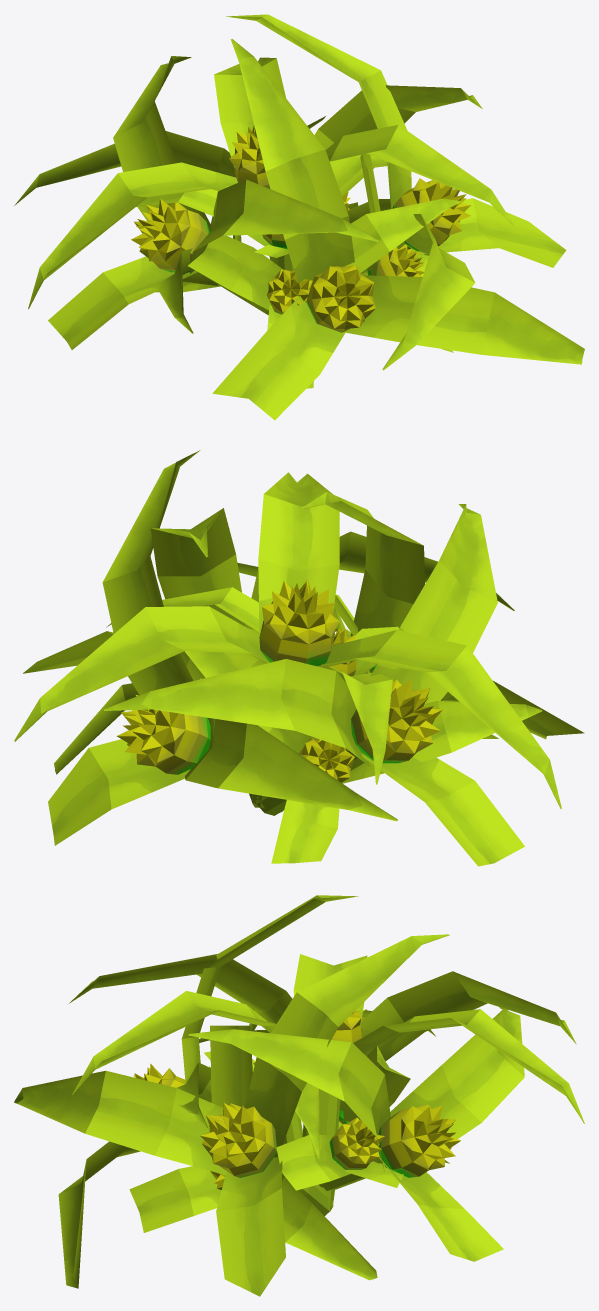
File: grass3.fbx
3 renders of one model, top to bottom at view 1: azimuth 30°, elevation 25°; view 2: azimuth 150°, elevation 25°; view 3: azimuth 270°, elevation 25°, orthographic. The views are drawn at different scales.
Visible parts, largest first — view 1: pPlane96; view 2: pPlane96; view 3: pPlane96.
Part boxes in pixels (left/top/right/bottom): pPlane96: left=14, top=14, right=584, bottom=420; pPlane96: left=14, top=450, right=584, bottom=866; pPlane96: left=14, top=895, right=584, bottom=1296.
Size of the model in its own units: 25.31 by 13.92 by 24.18.
